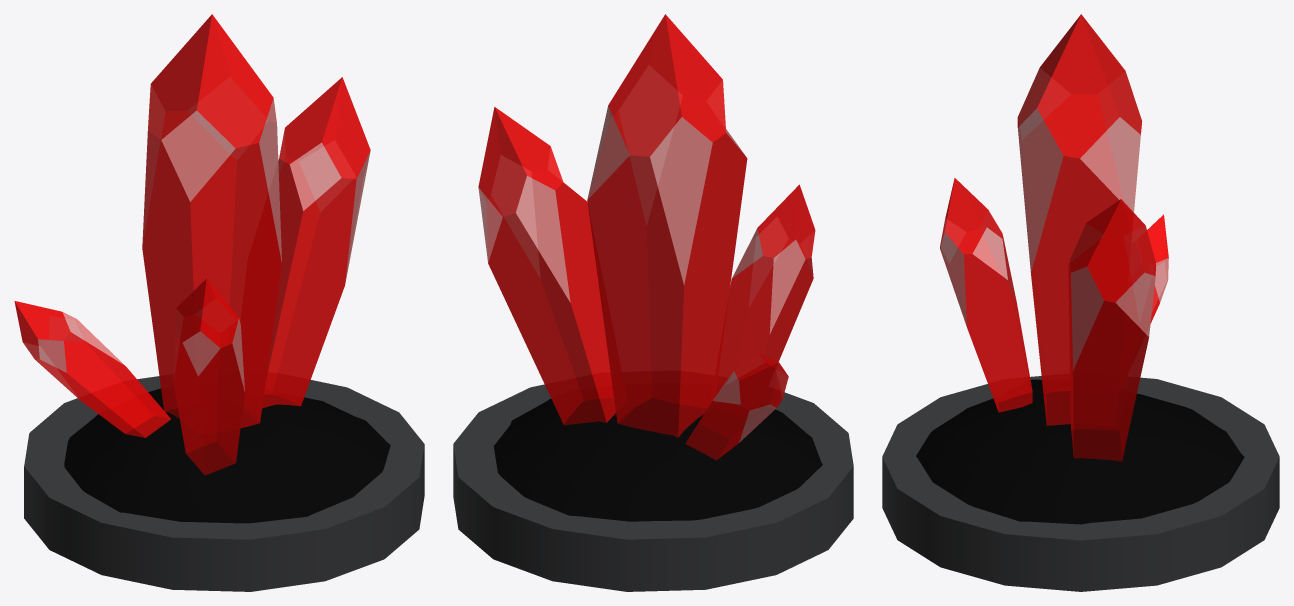
Rendered from Crystal_Red.fbx.
The picture shows the model from 3 angles, left to right: view 1: azimuth 30°, elevation 25°; view 2: azimuth 150°, elevation 25°; view 3: azimuth 270°, elevation 25°; orthographic projection.
Visible parts, largest first — view 1: Crystal_Red; view 2: Crystal_Red; view 3: Crystal_Red.
Boxes of the visible parts, <box> form: Crystal_Red: <box>14,14,424,591</box>; Crystal_Red: <box>453,14,853,591</box>; Crystal_Red: <box>882,14,1279,591</box>.
Bounding box in the file's own units: 0.2472 × 0.3351 × 0.2472.
